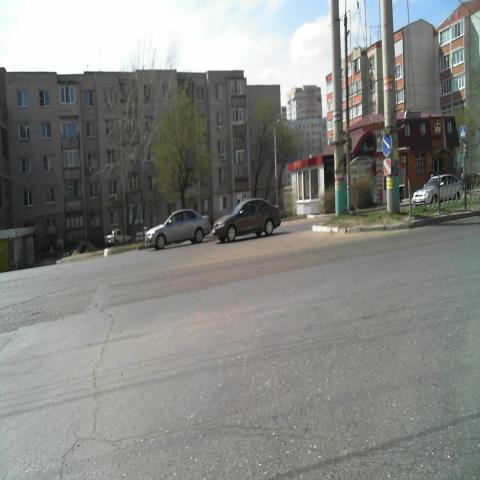4_2_1: (381, 131, 393, 157)
5_19_1: (458, 125, 466, 138)
